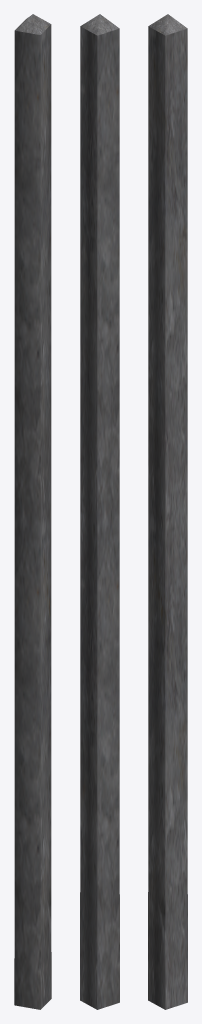
The model's file is Net_stake_LOD2.fbx.
3 renders of one model, left to right at view 1: azimuth 90°, elevation 25°; view 2: azimuth 150°, elevation 25°; view 3: azimuth 330°, elevation 25°, orthographic.
Parts seen in each view (by area): view 1: polySurface122; view 2: polySurface122; view 3: polySurface122.
Part boxes in pixels (<box>): polySurface122: <box>14,14,51,1009</box>; polySurface122: <box>80,14,119,1009</box>; polySurface122: <box>148,14,187,1009</box>.
Bounding box in the file's own units: 0.0854 × 2.51 × 0.0854.
